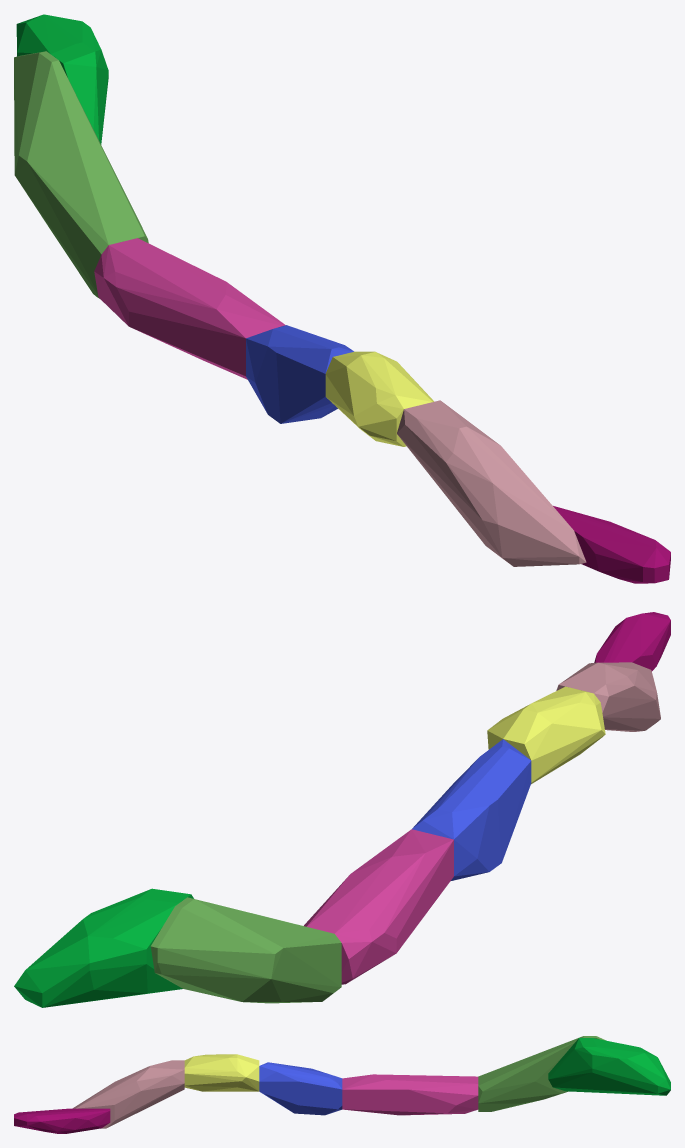
File: dry_branches_medium_01b_phys.fbx
3 views of the same model, one above another, from view 1: azimuth 30°, elevation 25°; view 2: azimuth 150°, elevation 25°; view 3: azimuth 270°, elevation 25° (orthographic). The views are drawn at different scales.
Visible parts, largest first — view 1: dry_branches_medium_01_b_hull_1, dry_branches_medium_01_b_hull_3, dry_branches_medium_01_b_hull_5, dry_branches_medium_01_b_hull_7, dry_branches_medium_01_b_hull_6, dry_branches_medium_01_b_hull_2, dry_branches_medium_01_b_hull_4; view 2: dry_branches_medium_01_b_hull_1, dry_branches_medium_01_b_hull_5, dry_branches_medium_01_b_hull_2, dry_branches_medium_01_b_hull_7, dry_branches_medium_01_b_hull_6, dry_branches_medium_01_b_hull_3, dry_branches_medium_01_b_hull_4; view 3: dry_branches_medium_01_b_hull_2, dry_branches_medium_01_b_hull_5, dry_branches_medium_01_b_hull_1, dry_branches_medium_01_b_hull_3, dry_branches_medium_01_b_hull_7, dry_branches_medium_01_b_hull_6, dry_branches_medium_01_b_hull_4.
Boxes of the visible parts, x1,y1,x2,y2 form: dry_branches_medium_01_b_hull_1: [14, 51, 148, 298]; dry_branches_medium_01_b_hull_3: [397, 400, 586, 566]; dry_branches_medium_01_b_hull_5: [94, 238, 285, 379]; dry_branches_medium_01_b_hull_7: [246, 325, 353, 423]; dry_branches_medium_01_b_hull_6: [325, 351, 433, 446]; dry_branches_medium_01_b_hull_2: [16, 14, 108, 144]; dry_branches_medium_01_b_hull_4: [553, 506, 670, 583]; dry_branches_medium_01_b_hull_1: [150, 897, 341, 1003]; dry_branches_medium_01_b_hull_5: [304, 829, 453, 984]; dry_branches_medium_01_b_hull_2: [14, 888, 193, 1007]; dry_branches_medium_01_b_hull_7: [412, 739, 531, 880]; dry_branches_medium_01_b_hull_6: [487, 686, 605, 784]; dry_branches_medium_01_b_hull_3: [556, 662, 660, 731]; dry_branches_medium_01_b_hull_4: [594, 612, 670, 671]; dry_branches_medium_01_b_hull_2: [548, 1038, 670, 1095]; dry_branches_medium_01_b_hull_5: [342, 1074, 478, 1115]; dry_branches_medium_01_b_hull_1: [478, 1036, 605, 1111]; dry_branches_medium_01_b_hull_3: [72, 1060, 184, 1128]; dry_branches_medium_01_b_hull_7: [259, 1062, 342, 1115]; dry_branches_medium_01_b_hull_6: [184, 1054, 259, 1091]; dry_branches_medium_01_b_hull_4: [14, 1108, 110, 1133].
Size of the model in its own units: 6.31 by 41.16 by 5.76.
